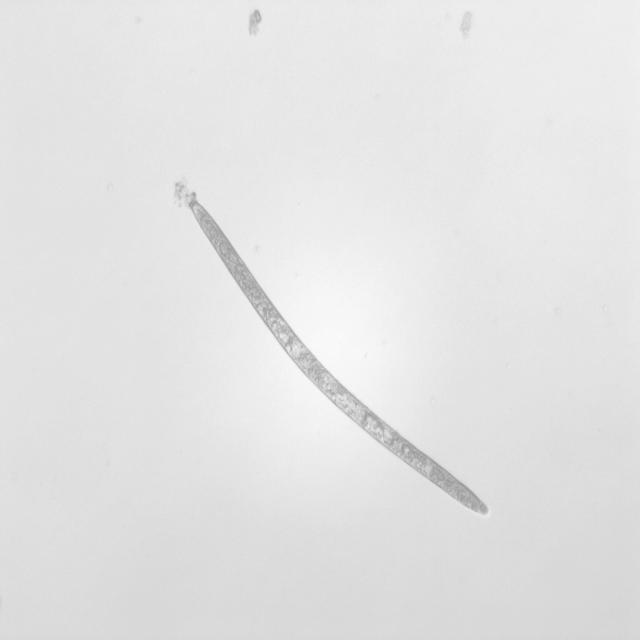Pratylenchus: (181, 197, 498, 520)
